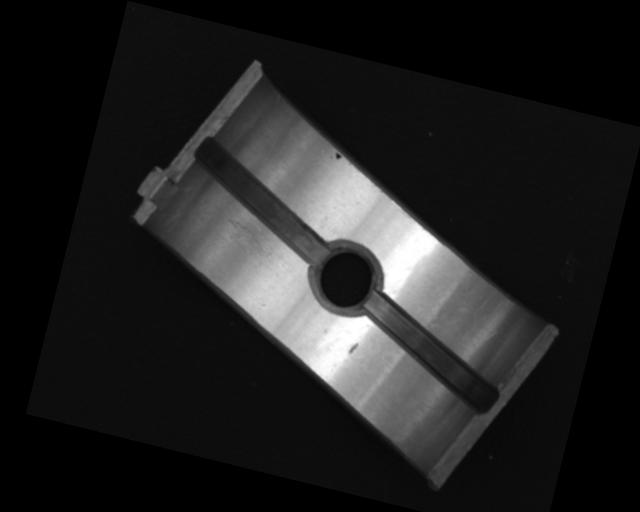blot: (331, 150, 343, 161)
bruise: (347, 340, 360, 356)
gap: (347, 290, 514, 417), (178, 140, 344, 267)
hole: (304, 236, 385, 324)
scratch: (207, 195, 284, 271)
